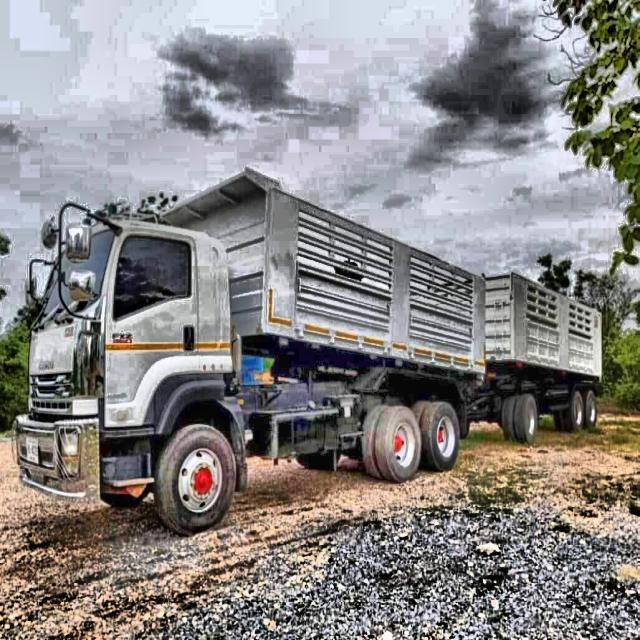trailer: (6, 158, 606, 540)
